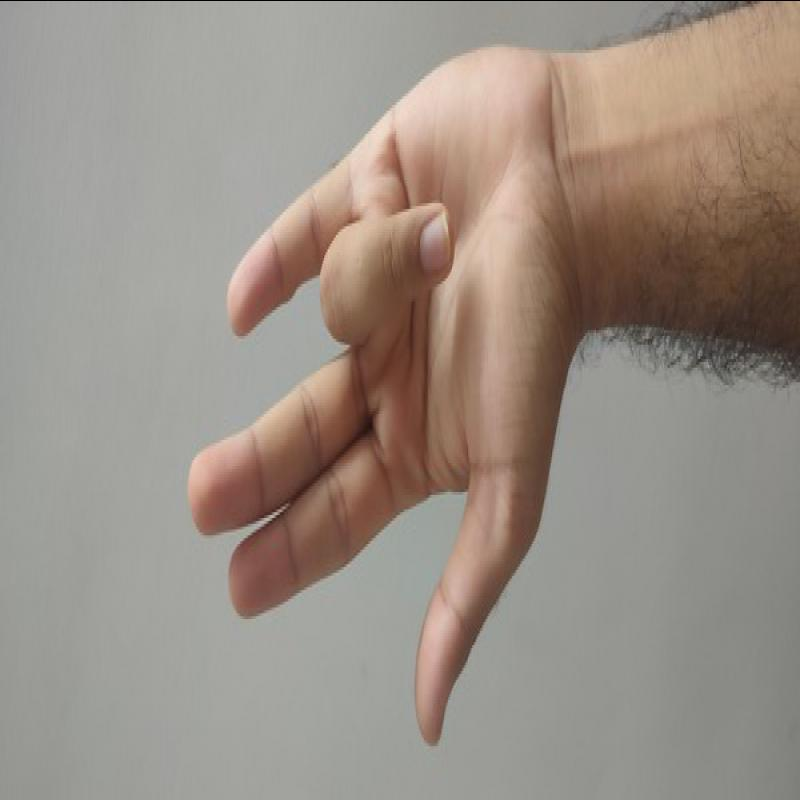Pathaaka: (166, 34, 576, 754)
